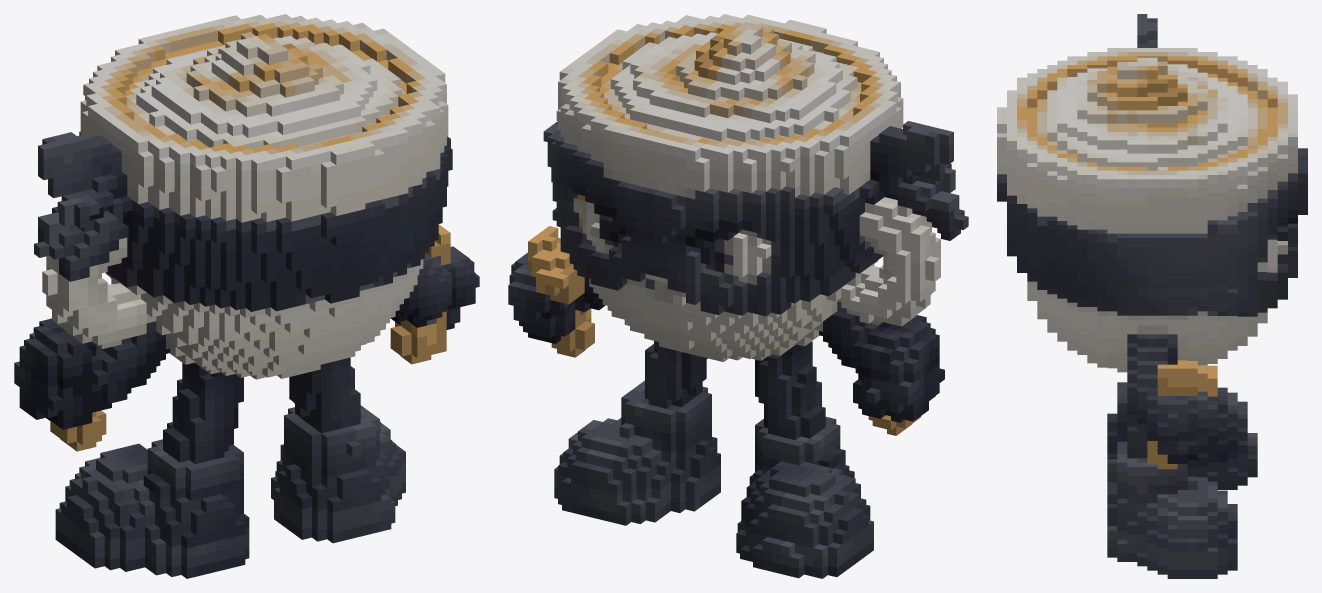
Rendered from CappuccinoAssassino.glb.
The picture shows the model from 3 angles, left to right: view 1: azimuth 30°, elevation 25°; view 2: azimuth 150°, elevation 25°; view 3: azimuth 270°, elevation 25°; orthographic projection. The views are drawn at different scales.
Parts seen in each view (by area): view 1: geometry_0; view 2: geometry_0; view 3: geometry_0.
Part boxes in pixels (x1,y1,x2,y2): geometry_0: (14, 14, 479, 578); geometry_0: (508, 14, 968, 578); geometry_0: (997, 14, 1307, 578).
Size of the model in its own units: 0.9592 by 1 by 0.6327.
